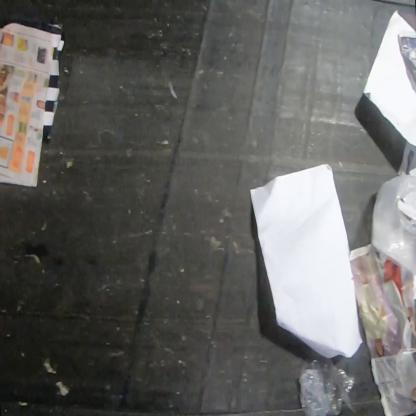rigid_plastic: (299, 348, 356, 416)
soft_plastic: (370, 174, 415, 281)
